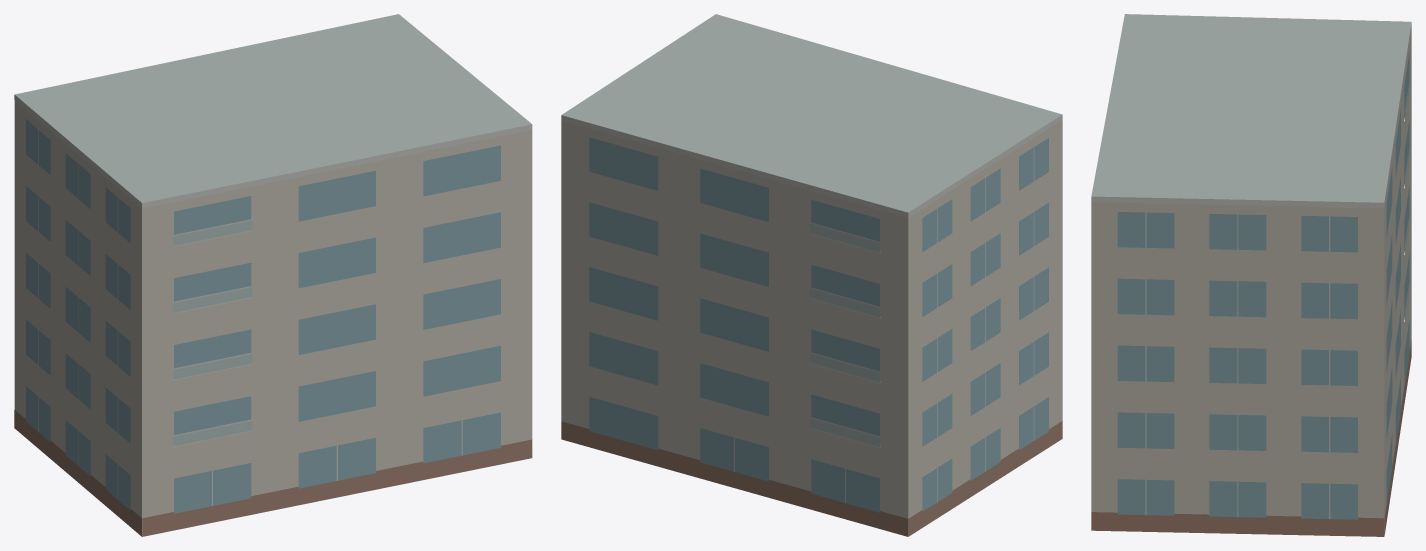
File: survey-upis-32760146.glb
3 views of the same model, side by side, from view 1: azimuth 30°, elevation 25°; view 2: azimuth 150°, elevation 25°; view 3: azimuth 270°, elevation 25° (orthographic). The views are drawn at different scales.
Visible parts, largest first — view 1: survey-upis-32760146.tmp; view 2: survey-upis-32760146.tmp; view 3: survey-upis-32760146.tmp.
Boxes of the visible parts, x1,y1,x2,y2 form: survey-upis-32760146.tmp: (14, 14, 532, 536); survey-upis-32760146.tmp: (561, 14, 1062, 536); survey-upis-32760146.tmp: (1091, 14, 1411, 536).
Bounding box in the file's own units: 17.82 × 14.7 × 12.79.
